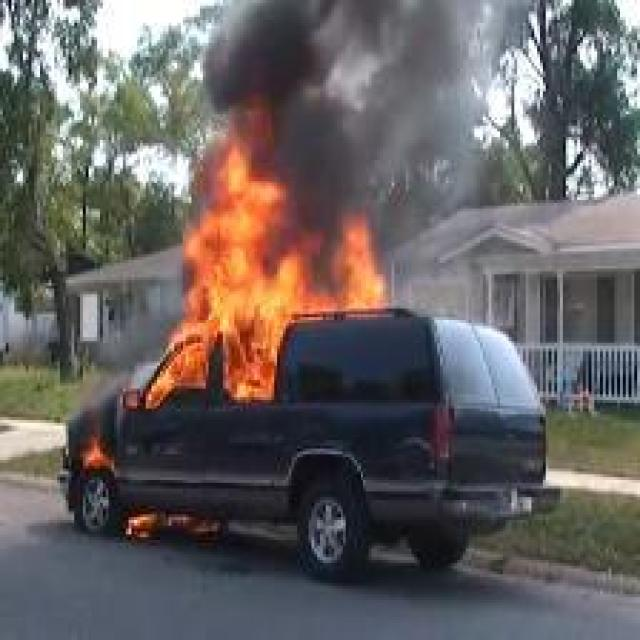fire: (134, 90, 384, 402), (119, 507, 217, 543), (72, 435, 112, 471)
smoke: (192, 6, 489, 264)
